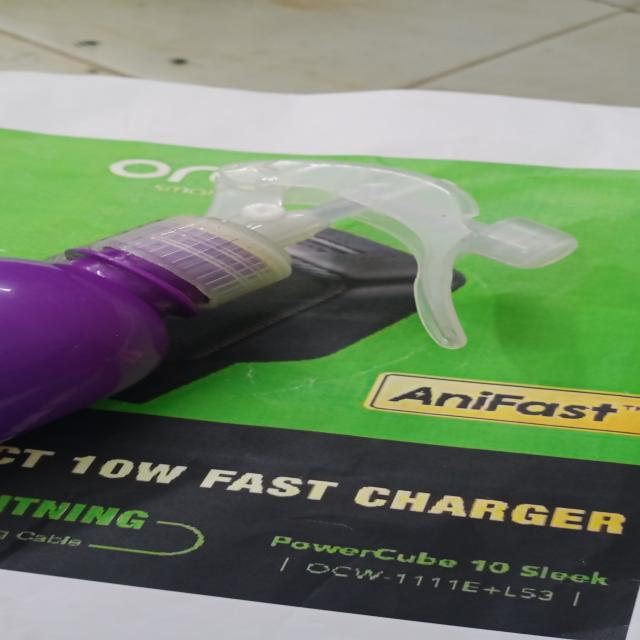PowerCube 10 Sleek OCW-1111ExL53: (252, 522, 633, 612)
